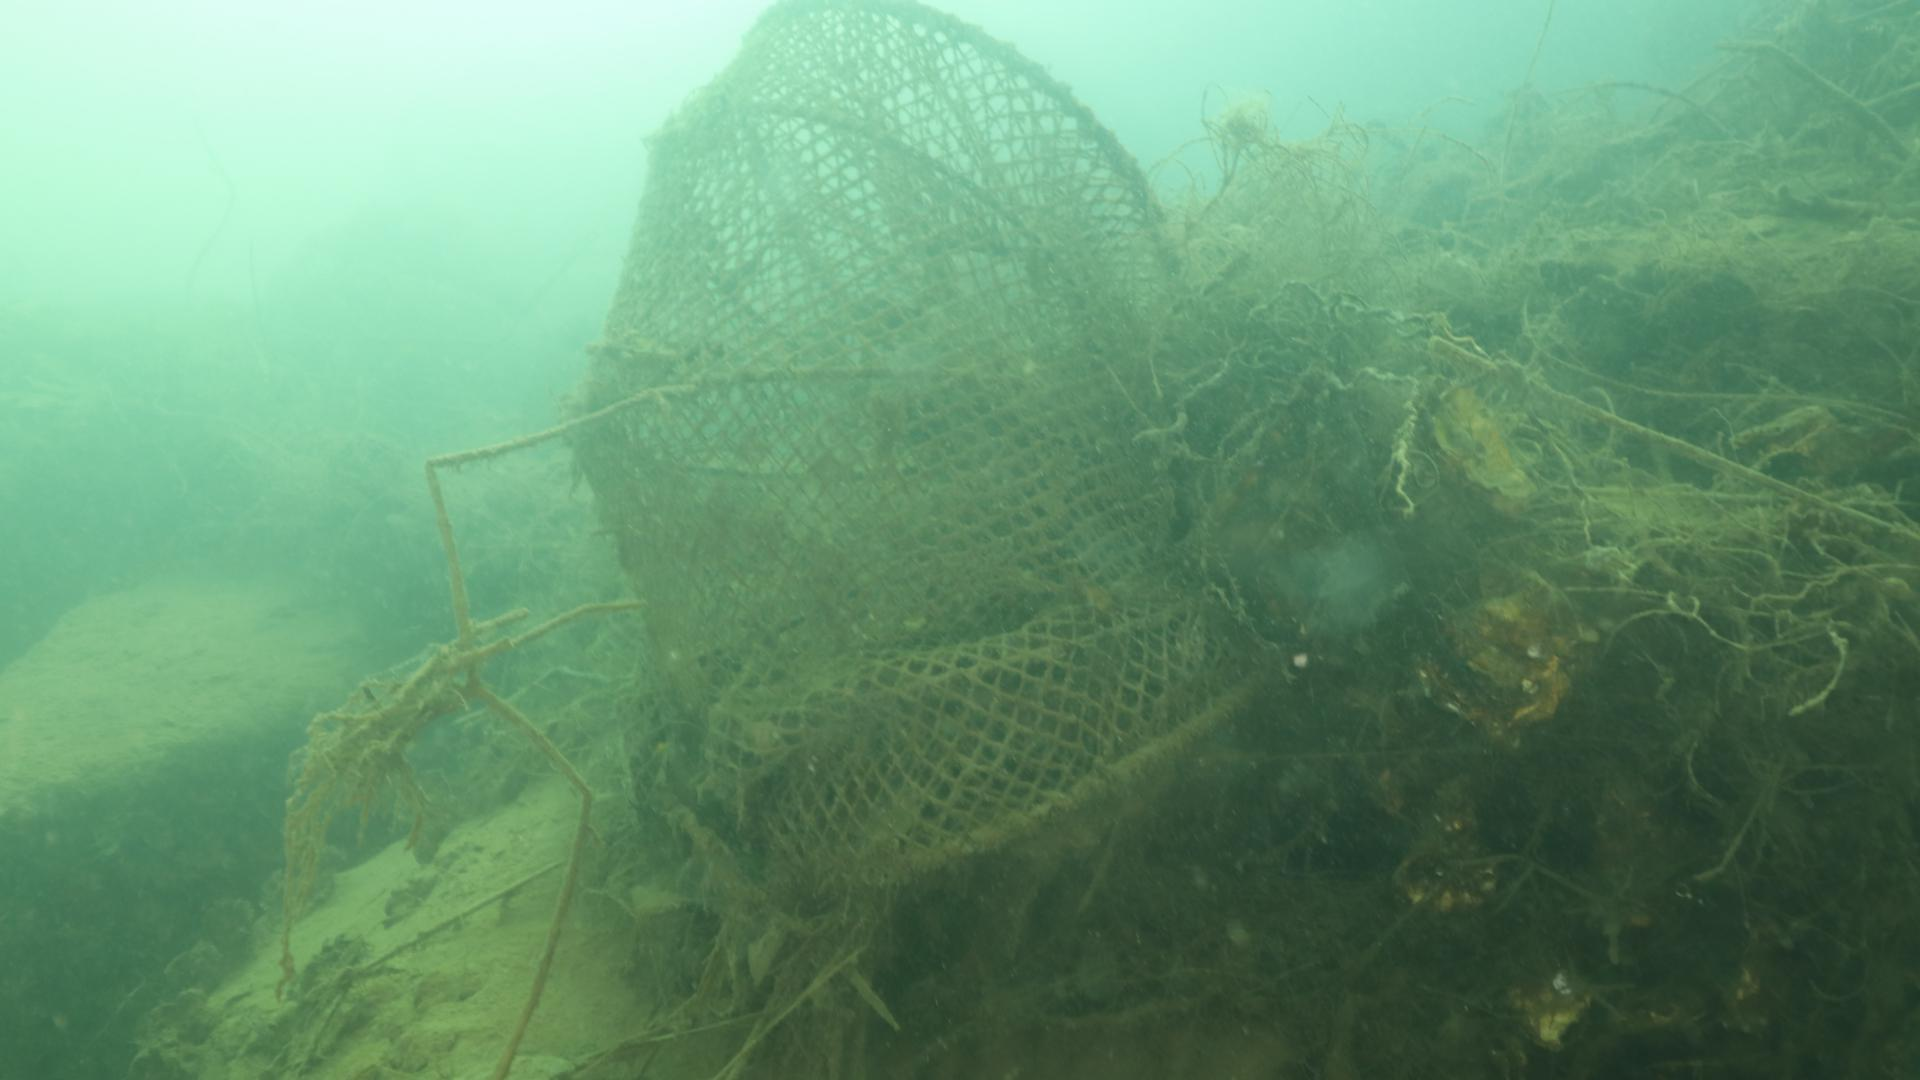spring fish trap: (571, 0, 1284, 903)
